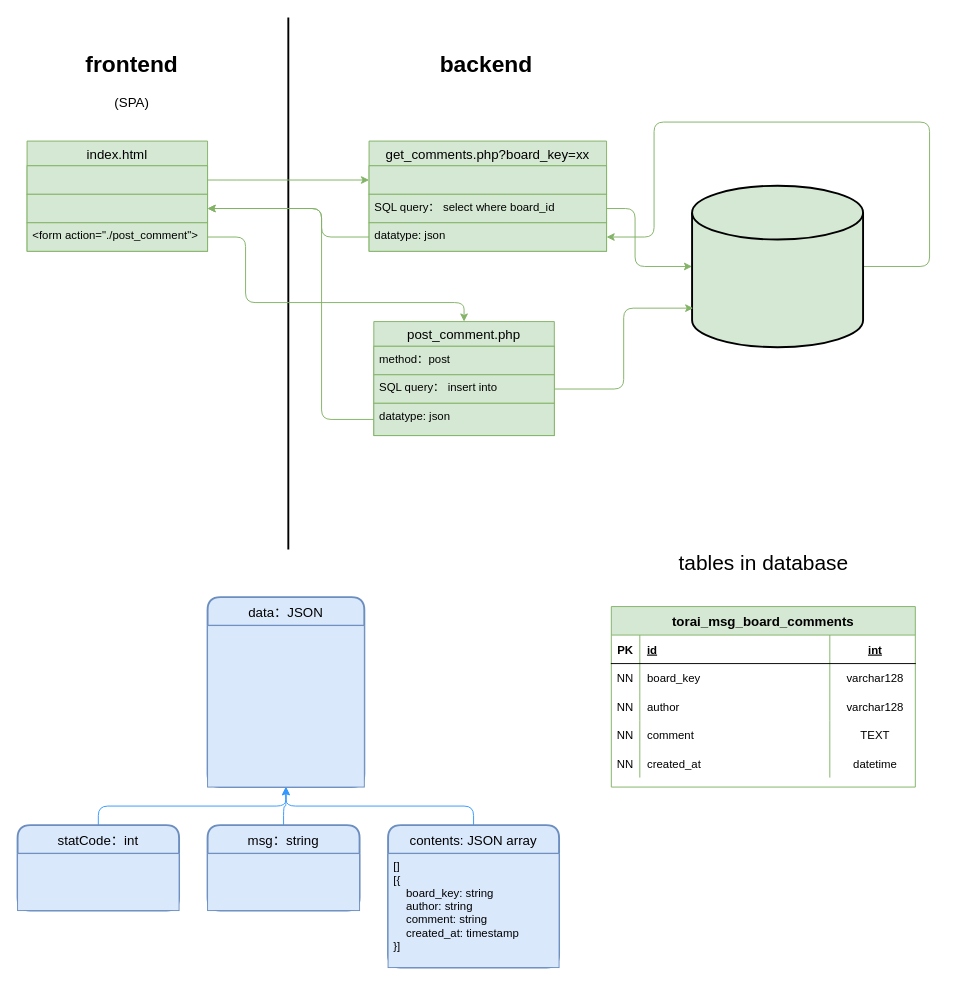
The diagram is 954 pixels wide and 984 high, and some of its shapes have lost their labels. Each missing label, with the centre of its shape:
"成功" "資料有缺" "伺服器錯誤": pixel 283 882
0：error 1: success: pixel 98 882
ajax：./get_comments: pixel 117 179
database: pixel 777 266
method：get: pixel 487 179
render comments: pixel 117 208
{ statCode msg contents:{ board_key, author, comment, created_at } }: pixel 285 706
